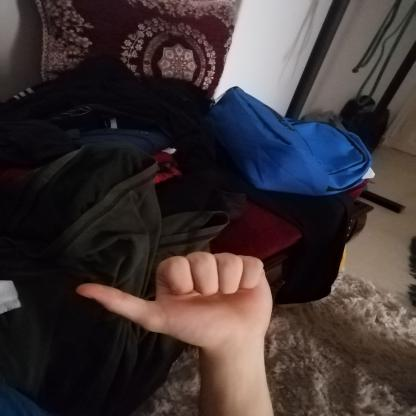DAD: (59, 240, 288, 363)
